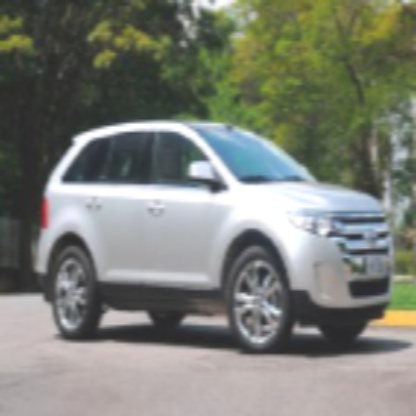Vehicle: (34, 119, 396, 360)
